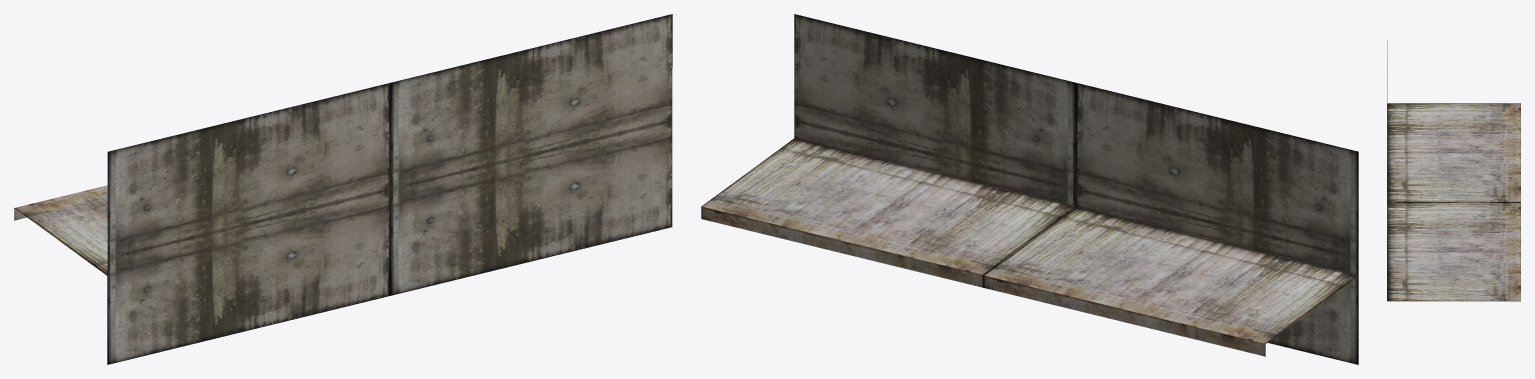
Rendered from Trottoir_04.fbx.
The picture shows the model from 3 angles, left to right: view 1: azimuth 30°, elevation 25°; view 2: azimuth 150°, elevation 25°; view 3: azimuth 270°, elevation 25°; orthographic projection. The views are drawn at different scales.
Parts seen in each view (by area): view 1: Trottoir_04; view 2: Trottoir_04; view 3: Trottoir_04.
Part boxes in pixels (left/top/right/bottom): Trottoir_04: left=14, top=14, right=672, bottom=364; Trottoir_04: left=701, top=14, right=1358, bottom=364; Trottoir_04: left=1387, top=40, right=1520, bottom=301.
Size of the model in its own units: 700 by 253 by 200.
